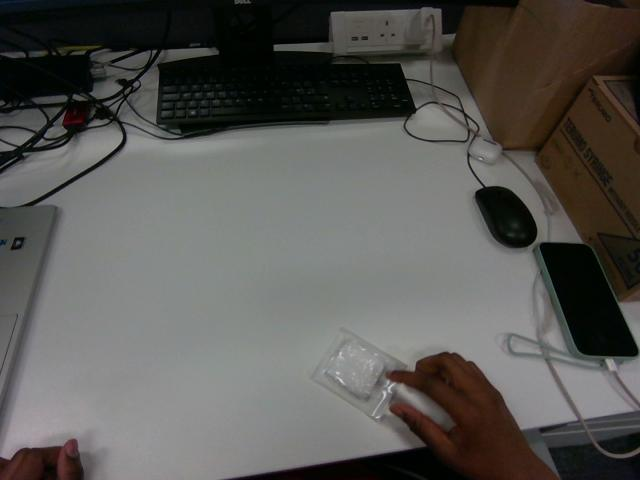gauze: (312, 328, 406, 418)
